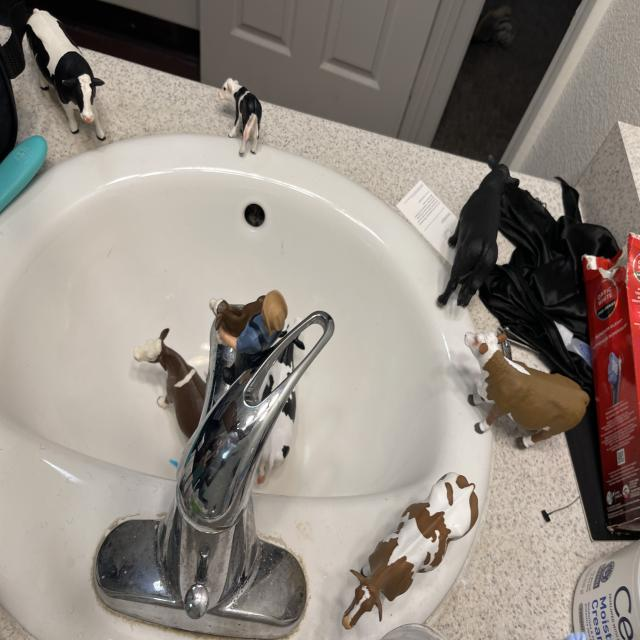cow: (319, 461, 495, 640), (430, 317, 597, 467), (0, 2, 132, 153), (433, 151, 520, 317), (125, 327, 226, 441), (213, 71, 274, 160), (253, 386, 304, 489), (253, 348, 304, 400), (209, 297, 263, 338)
person: (231, 286, 300, 366)
